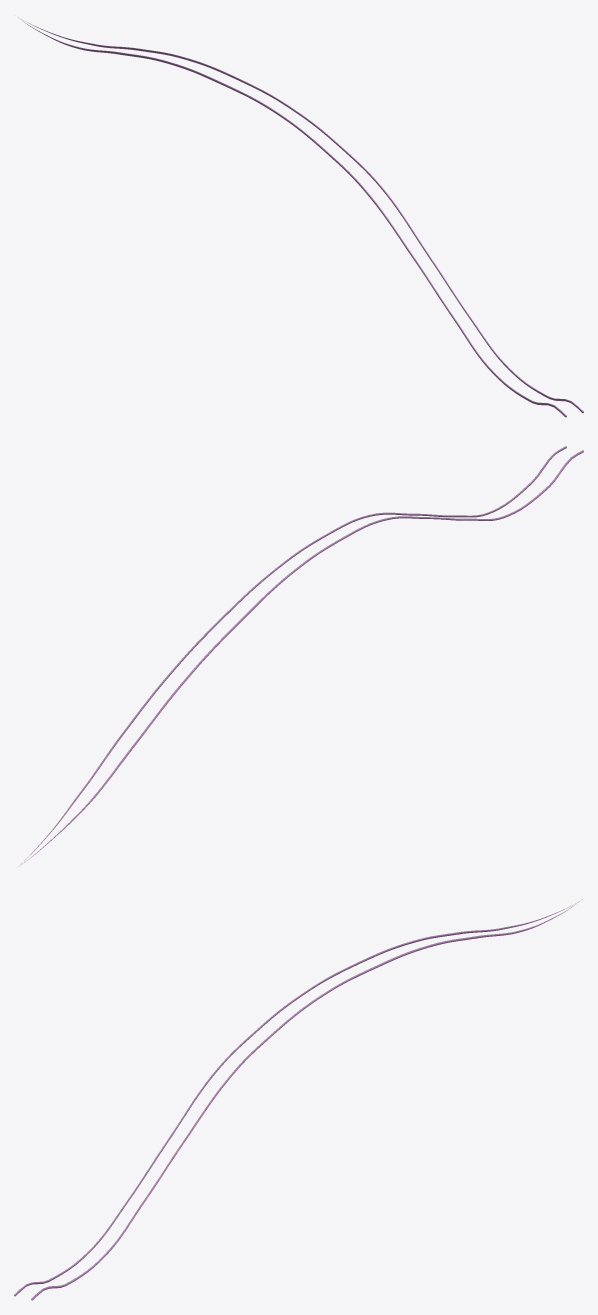
3 views of the same model, one above another, from view 1: azimuth 30°, elevation 25°; view 2: azimuth 150°, elevation 25°; view 3: azimuth 330°, elevation 25° (orthographic).
Visible parts, largest first — view 1: 脊髓网状突; view 2: 脊髓网状突; view 3: 脊髓网状突.
Boxes of the visible parts, left/top/right/bottom form: 脊髓网状突: left=18, top=17, right=583, bottom=417; 脊髓网状突: left=18, top=446, right=583, bottom=866; 脊髓网状突: left=14, top=899, right=582, bottom=1300.
Size of the model in its own units: 0.0138 by 0.0755 by 0.7217.
